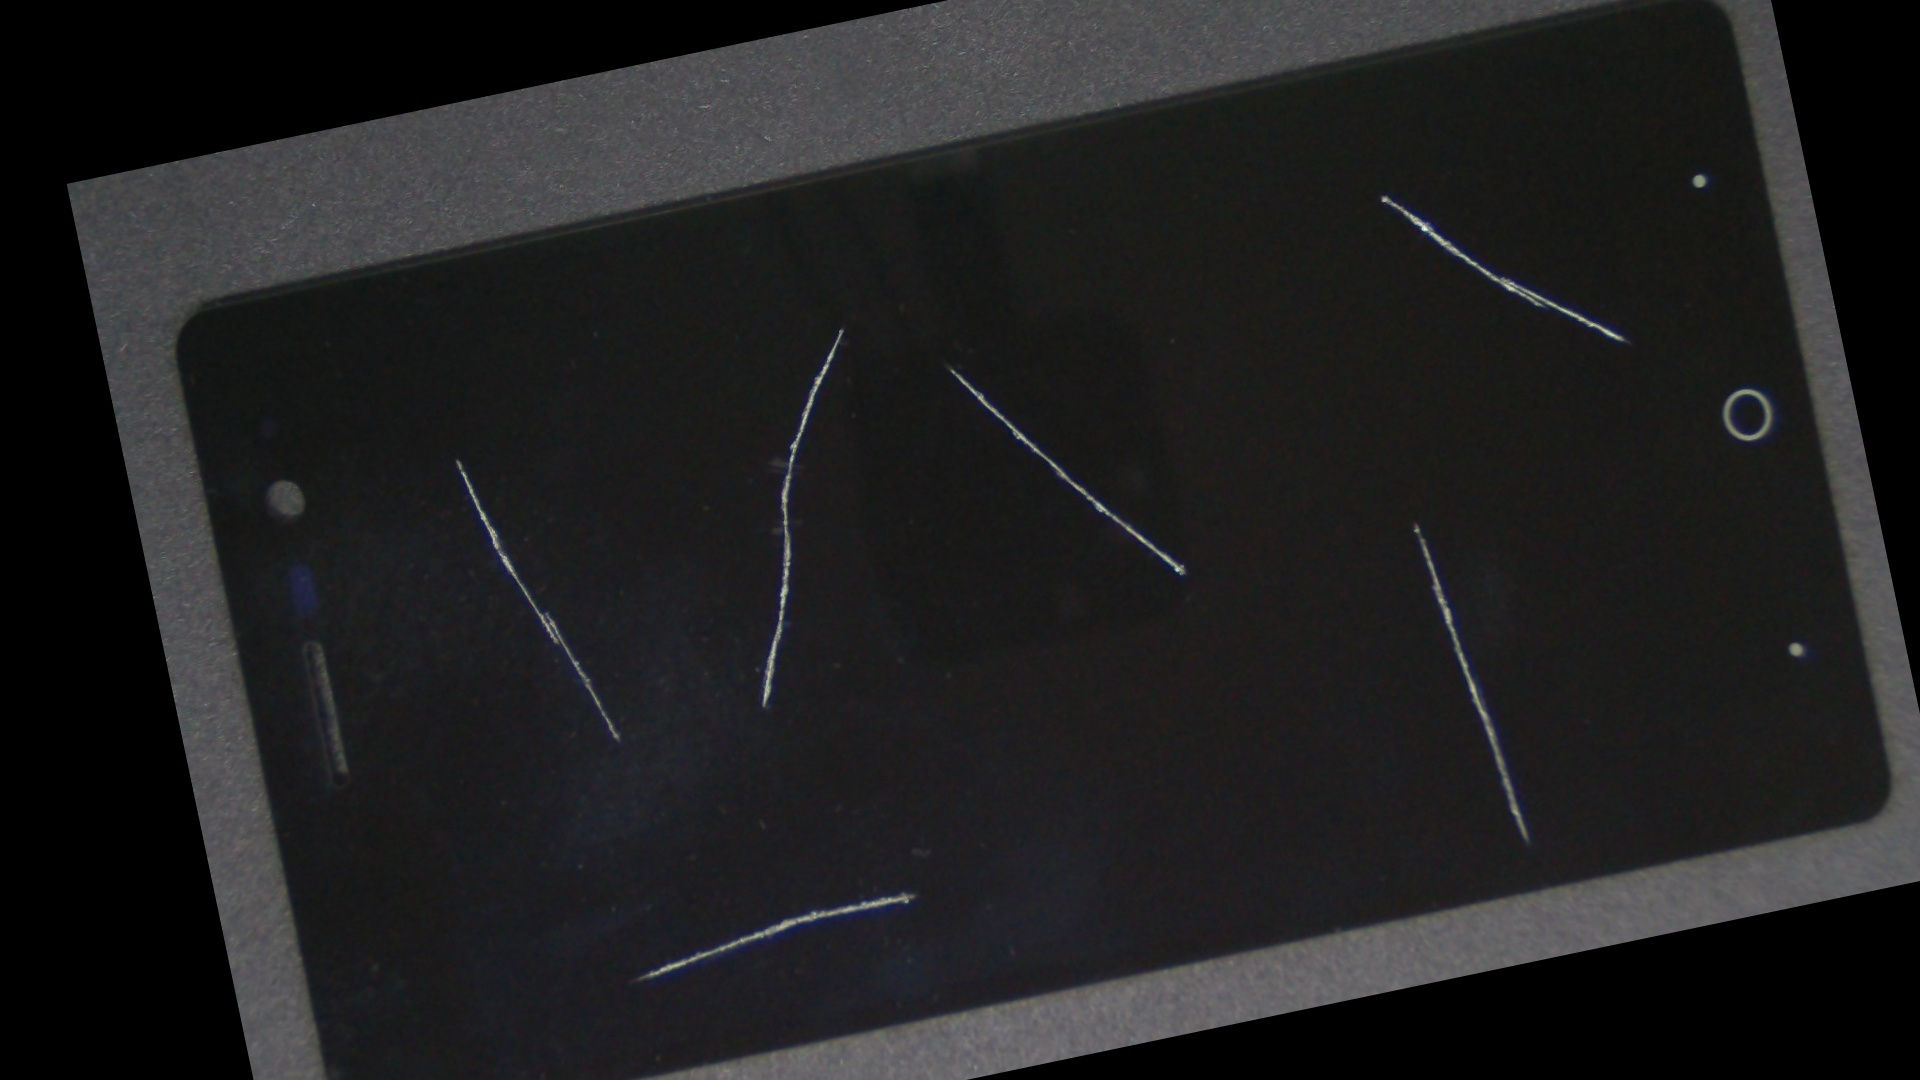oil: (741, 132, 1920, 947), (724, 0, 1822, 463), (508, 104, 1389, 624), (439, 429, 1135, 1080), (455, 105, 1230, 549), (260, 252, 649, 665)
